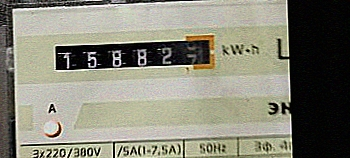1: (62, 49, 71, 68)
2: (160, 44, 173, 64)
5: (84, 49, 98, 68)
7: (185, 50, 197, 63)
8: (134, 45, 148, 66), (110, 47, 123, 67)
screen: (49, 32, 219, 77)
